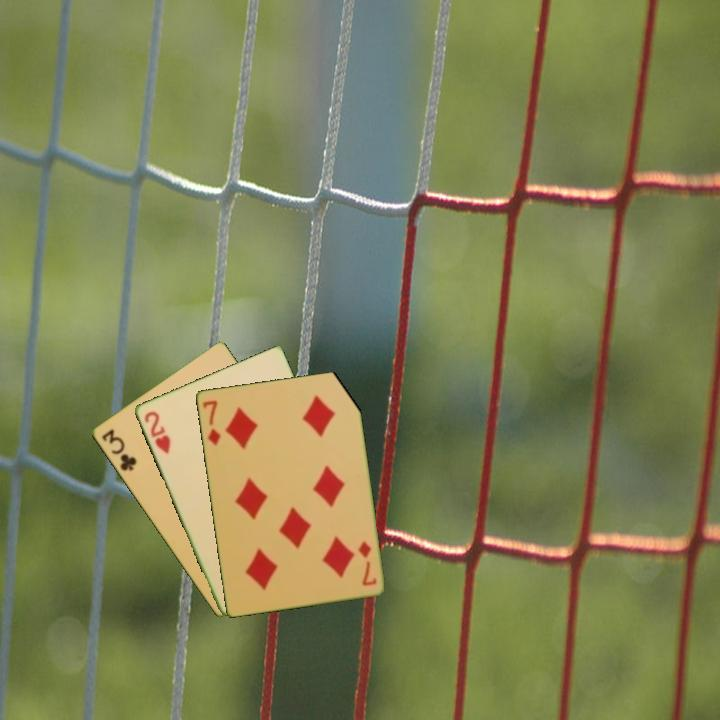2h: (140, 407, 173, 457)
3c: (98, 425, 139, 474)
7d: (354, 537, 379, 589), (199, 396, 223, 448)
